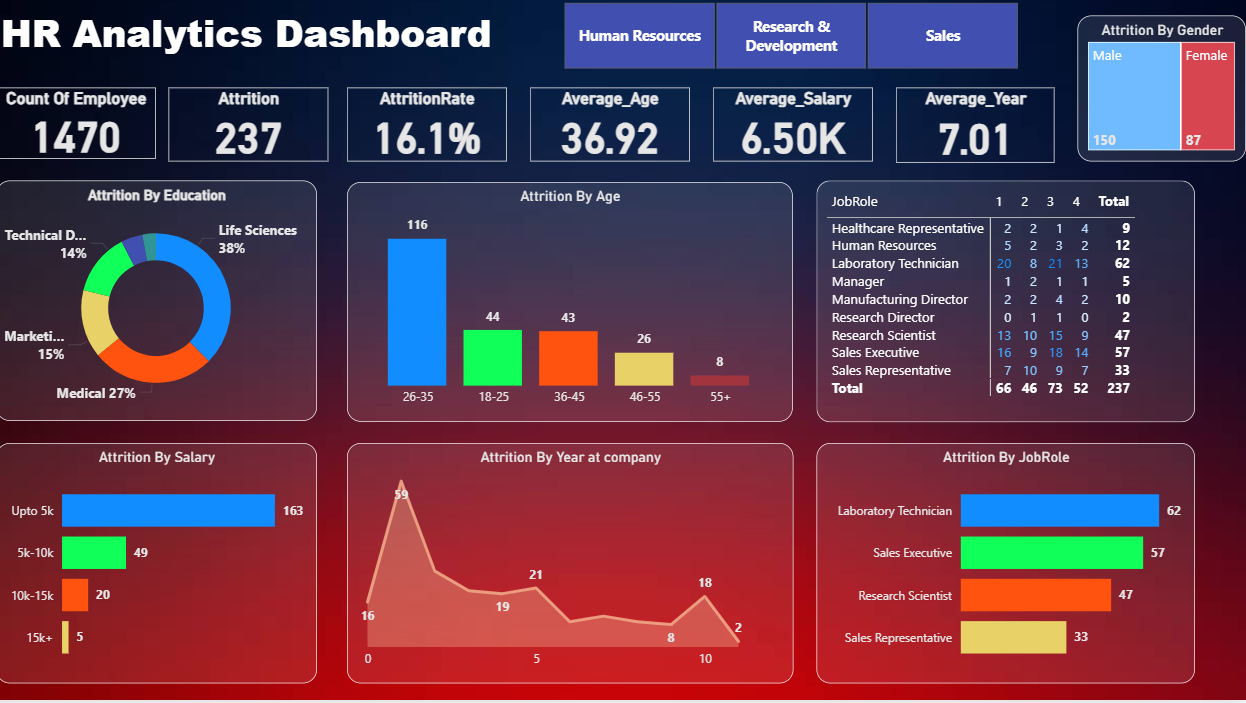

The page's visual inventory and layout, read from the dashboard file:
{"tool":"powerbi","page":{"name":"Page 1","canvas":[1280,720],"ordinal":0},"visuals":[{"type":"card","title":"Count Of Employee","fields":{"Values":["CountNonNull(HR_Analytics.EmpID)"]},"box":[17.9,100.8,161,72],"z":0},{"type":"card","title":"Attrition","fields":{"Values":["Sum(HR_Analytics.AttritionCount)"]},"box":[191.9,100.8,161,74.8],"z":1000},{"type":"card","title":"AttritionRate","fields":{"Values":["HR_Analytics.AttritionRate"]},"box":[372.5,100.8,161,74.8],"z":2000},{"type":"card","title":"Average_Age","fields":{"Values":["Avg(HR_Analytics.Age)"]},"box":[557.9,100.8,161,74.8],"z":3000},{"type":"card","title":"Average_Salary","fields":{"Values":["Avg(HR_Analytics.MonthlyIncome)"]},"box":[741.7,100.8,161,74.8],"z":4000},{"type":"card","title":"Average_Year","fields":{"Values":["Avg(HR_Analytics.YearsAtCompany)"]},"box":[927.1,100.8,160,76],"z":5000},{"type":"donutChart","title":"Attrition By Education","fields":{"Category":["HR_Analytics.EducationField"],"Y":["Sum(HR_Analytics.AttritionCount)"]},"box":[18.4,195.2,323.7,242.4],"z":6000},{"type":"columnChart","title":"Attrition By Age","fields":{"Category":["HR_Analytics.AgeGroup"],"Y":["Sum(HR_Analytics.AttritionCount)"]},"box":[372.3,196.5,449.8,241.9],"z":7000},{"type":"pivotTable","fields":{"Rows":["HR_Analytics.JobRole"],"Columns":["HR_Analytics.JobSatisfaction"],"Values":["Sum(HR_Analytics.AttritionCount)"]},"box":[845.8,195.2,382.2,244],"z":8000},{"type":"barChart","title":"Attrition By Salary","fields":{"Y":["Sum(HR_Analytics.AttritionCount)"],"Category":["HR_Analytics.SalarySlab"]},"box":[17.9,460.3,323.7,242.4],"z":9000},{"type":"barChart","title":"Attrition By JobRole","fields":{"Y":["Sum(HR_Analytics.AttritionCount)"],"Category":["HR_Analytics.JobRole"]},"box":[845.8,460.3,382.2,242.4],"z":10000},{"type":"areaChart","title":"Attrition By Year at company","fields":{"Category":["HR_Analytics.YearsAtCompany"],"Y":["Sum(HR_Analytics.AttritionCount)"]},"box":[372.5,460.3,450.6,242.4],"z":11000},{"type":"treemap","title":"Attrition By Gender","fields":{"Values":["Sum(HR_Analytics.AttritionCount)"],"Group":["HR_Analytics.Gender"]},"box":[1109.3,28.3,170.1,147.4],"z":12000},{"type":"slicer","fields":{"Values":["HR_Analytics.Department"]},"box":[567,12,507.5,77],"z":13000},{"type":"textbox","box":[17.9,13,515.6,68.3],"z":14000}]}

Visuals, with their boxes in screenshot pixels (x1, y1, x2, y2), scaled from the page's 1280x720 canvas onto the 1246x703 screenshot:
"Count Of Employee" card: bbox=(17, 98, 174, 169)
"Attrition" card: bbox=(187, 98, 344, 171)
"AttritionRate" card: bbox=(363, 98, 519, 171)
"Average_Age" card: bbox=(543, 98, 700, 171)
"Average_Salary" card: bbox=(722, 98, 879, 171)
"Average_Year" card: bbox=(902, 98, 1058, 173)
"Attrition By Education" donutChart: bbox=(18, 191, 333, 427)
"Attrition By Age" columnChart: bbox=(362, 192, 800, 428)
pivotTable - HR_Analytics.JobRole x HR_Analytics.JobSatisfaction: bbox=(823, 191, 1195, 429)
"Attrition By Salary" barChart: bbox=(17, 449, 333, 686)
"Attrition By JobRole" barChart: bbox=(823, 449, 1195, 686)
"Attrition By Year at company" areaChart: bbox=(363, 449, 801, 686)
"Attrition By Gender" treemap: bbox=(1080, 28, 1245, 172)
slicer - HR_Analytics.Department: bbox=(552, 12, 1046, 87)
textbox: bbox=(17, 13, 519, 79)
